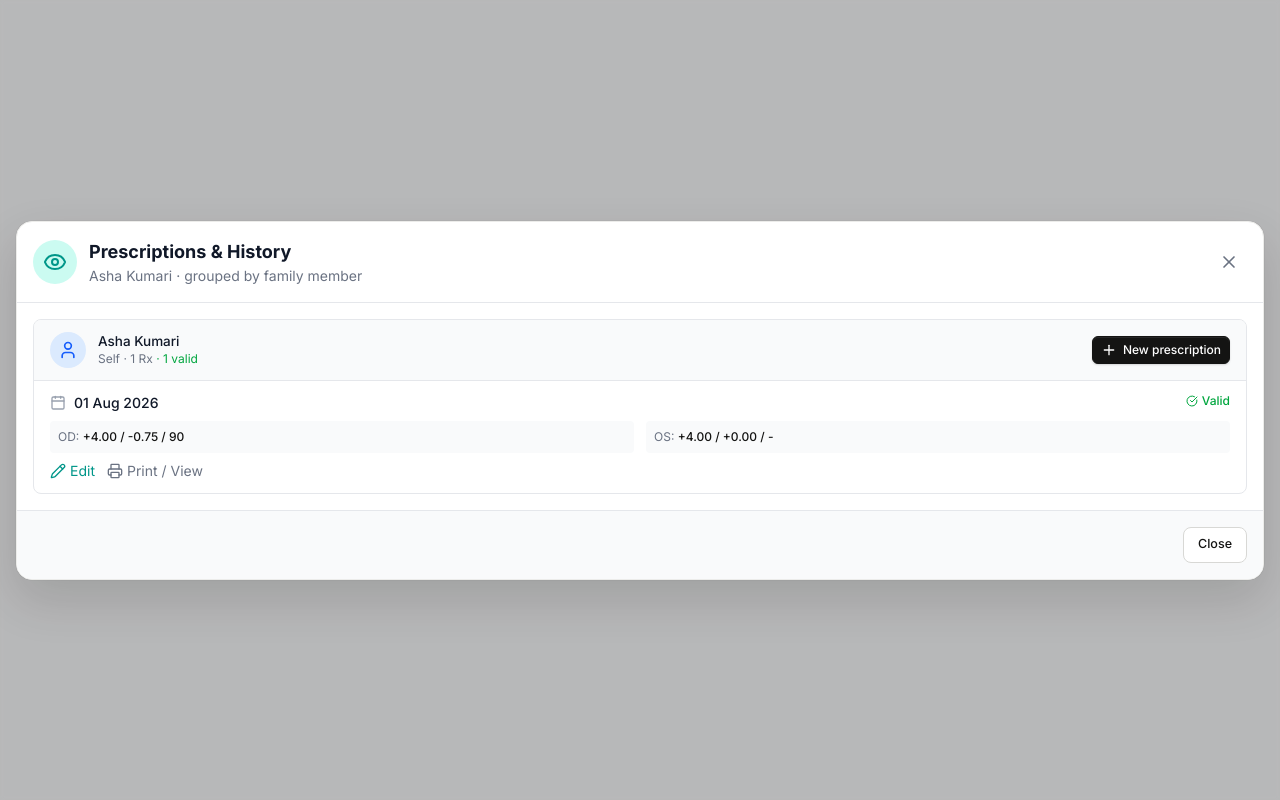
Test: editing a stored prescription › shows the validation field from the real ApiError delivered to this screen
Expected: the text "Asha Kumari" is shown, 98,333 -> 180,349
Click the button "Edit": x=72, y=470 50,460 -> 95,480
(page scrolled)
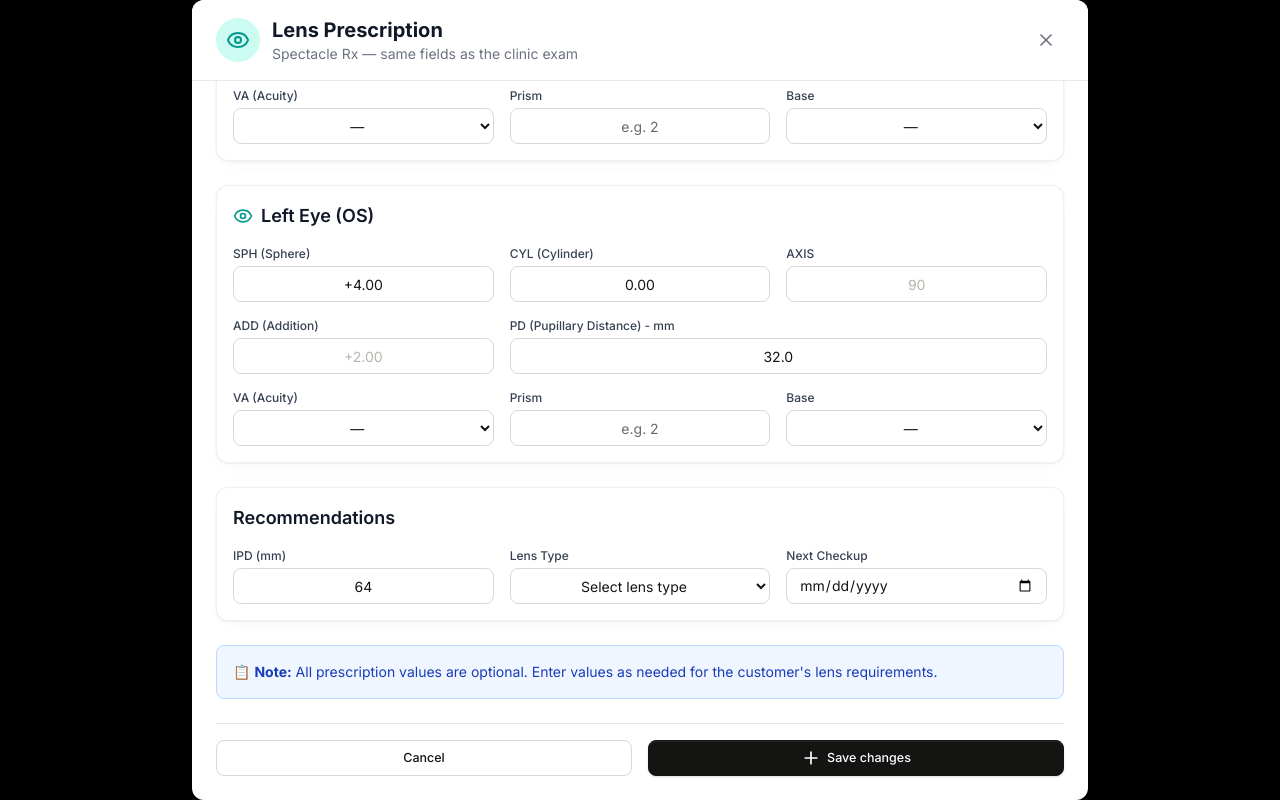
Click the button "Save changes": x=856, y=758 648,740 -> 1064,776
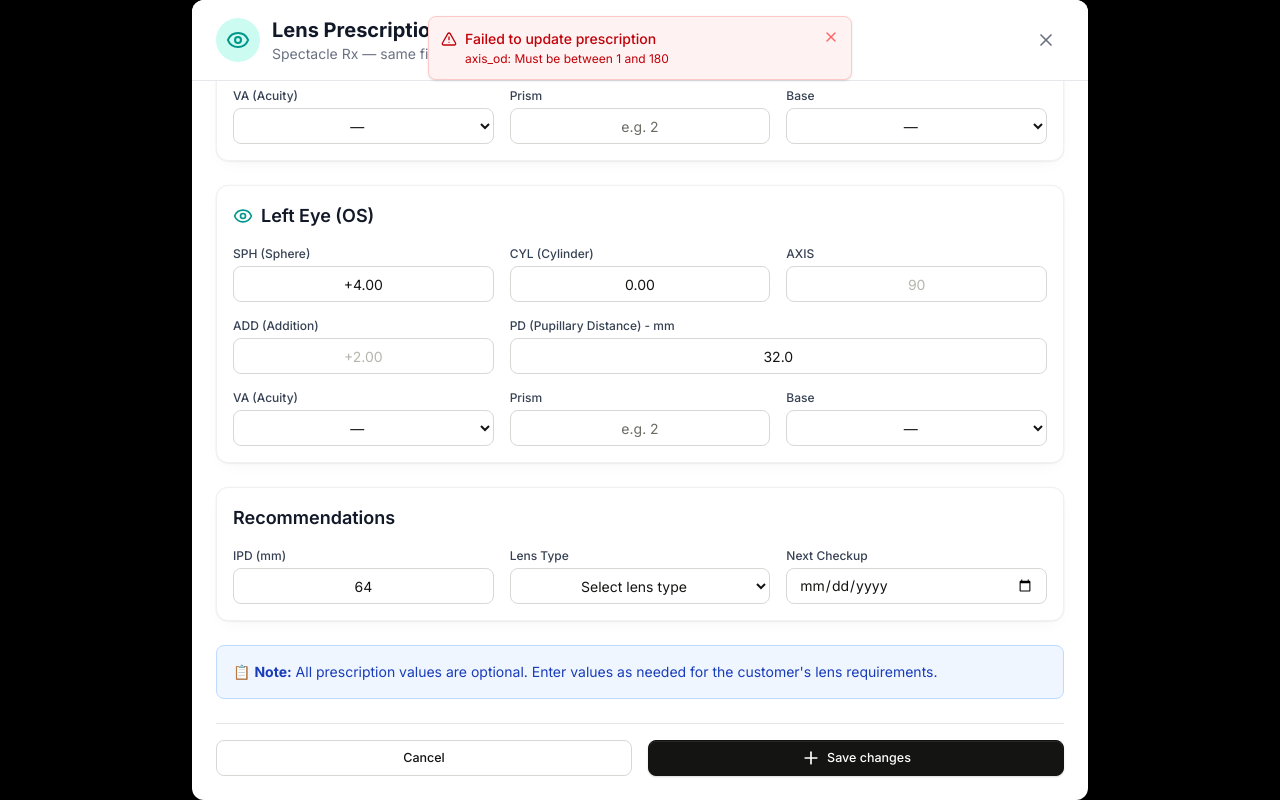
Now the text "axis_od: Must be between 1 and 180" is shown, box 465,51 -> 669,67
